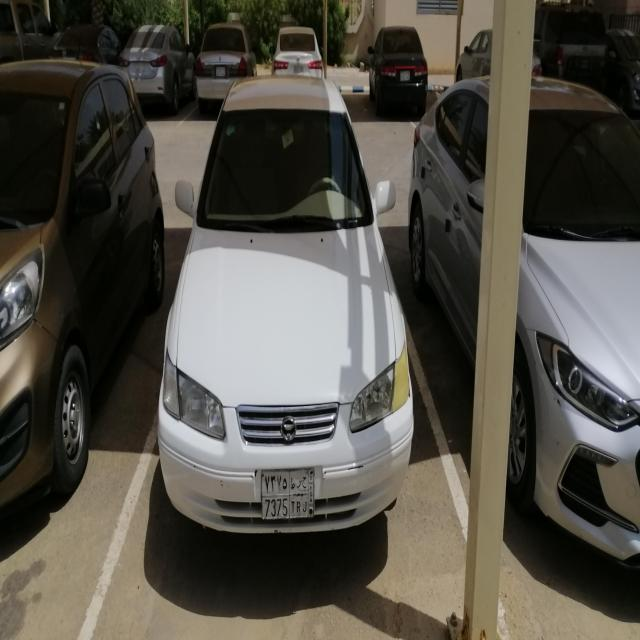license_plate: (260, 467, 315, 520), (400, 71, 410, 81), (294, 66, 304, 76), (216, 67, 226, 77), (136, 63, 144, 74)
